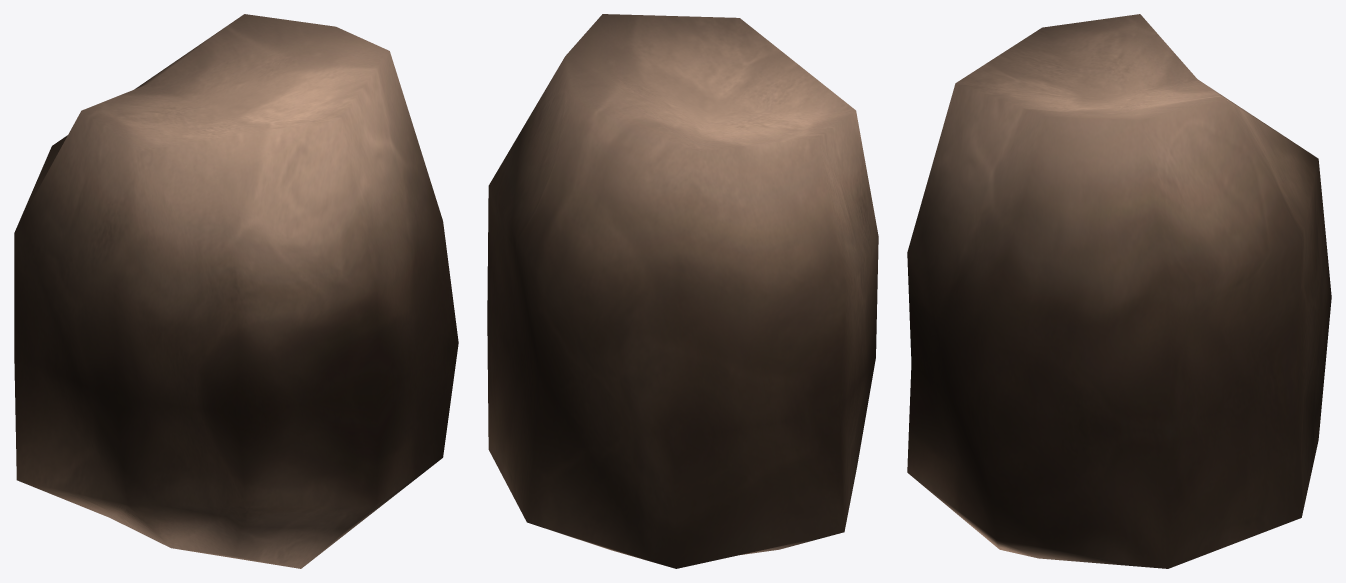
The model's file is rock_6.fbx.
3 views of the same model, side by side, from view 1: azimuth 30°, elevation 25°; view 2: azimuth 150°, elevation 25°; view 3: azimuth 270°, elevation 25° (orthographic). The views are drawn at different scales.
Parts seen in each view (by area): view 1: polySurface39; view 2: polySurface39; view 3: polySurface39.
Boxes of the visible parts, x1,y1,x2,y2 form: polySurface39: (14, 14, 458, 568); polySurface39: (487, 14, 878, 568); polySurface39: (907, 14, 1331, 568).
Bounding box in the file's own units: 15.57 × 19.18 × 15.09.
